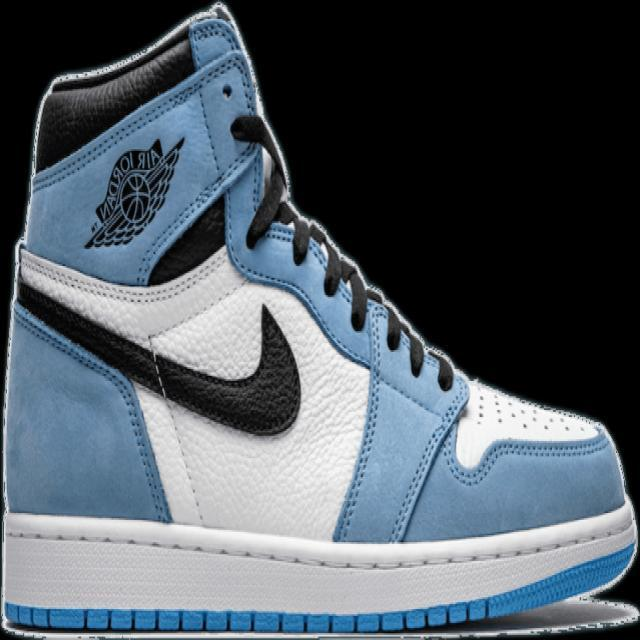J1_InsoleChar: (0, 0, 639, 637)
J1_ShoeLogo: (82, 134, 186, 250)
J1_StitchPattern: (229, 111, 604, 456), (1, 507, 638, 630), (13, 244, 303, 436), (263, 190, 456, 390), (2, 517, 636, 574), (1, 596, 639, 637), (467, 377, 601, 439)
